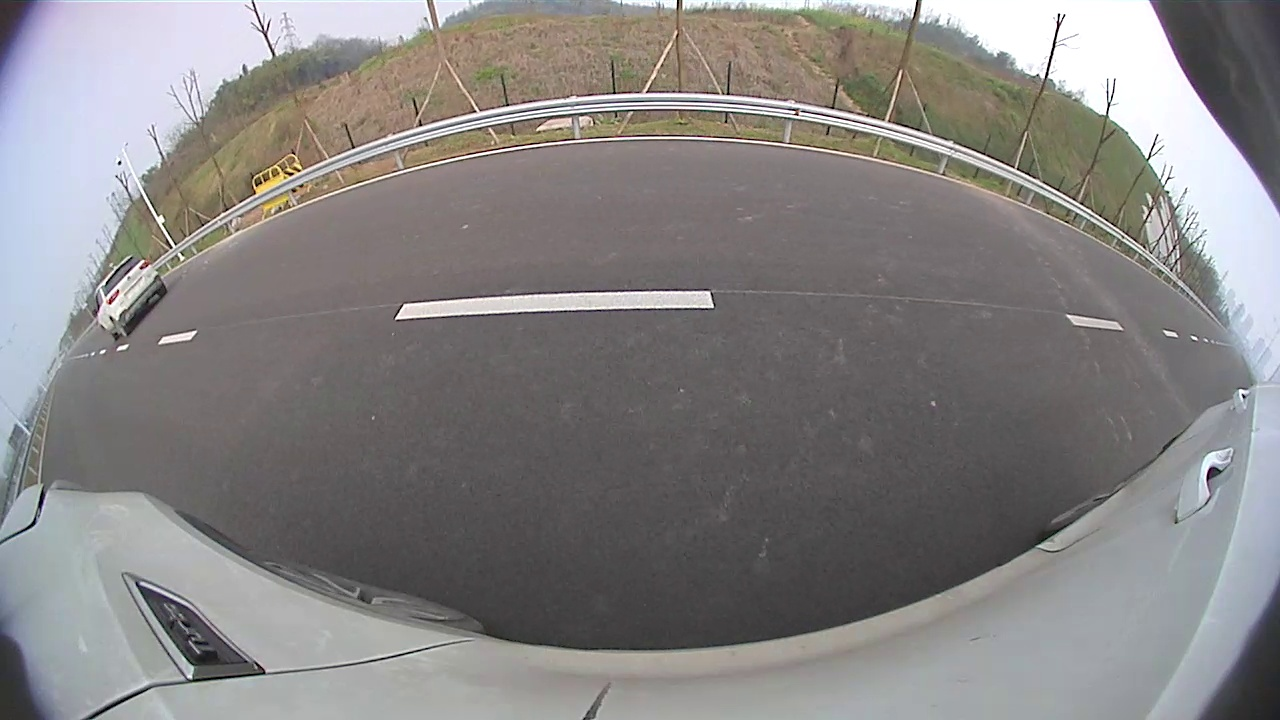car: (93, 254, 166, 342)
rear: (109, 318, 128, 340)
